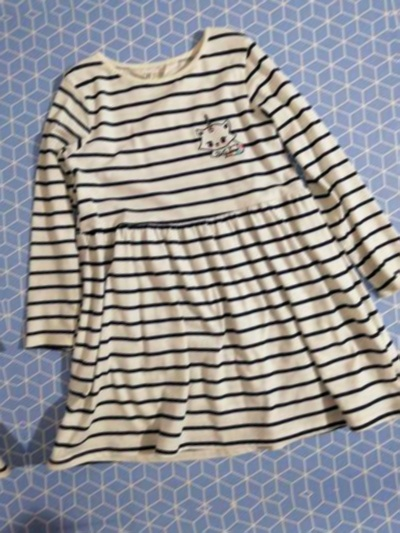Dress: (0, 11, 400, 488), (0, 69, 25, 533), (50, 518, 400, 533)
